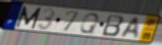3: (37, 7, 57, 32)
7: (64, 10, 81, 33)
A: (119, 16, 140, 39)
B: (101, 13, 125, 37)
M: (15, 5, 43, 30)
Q: (78, 12, 101, 35)
